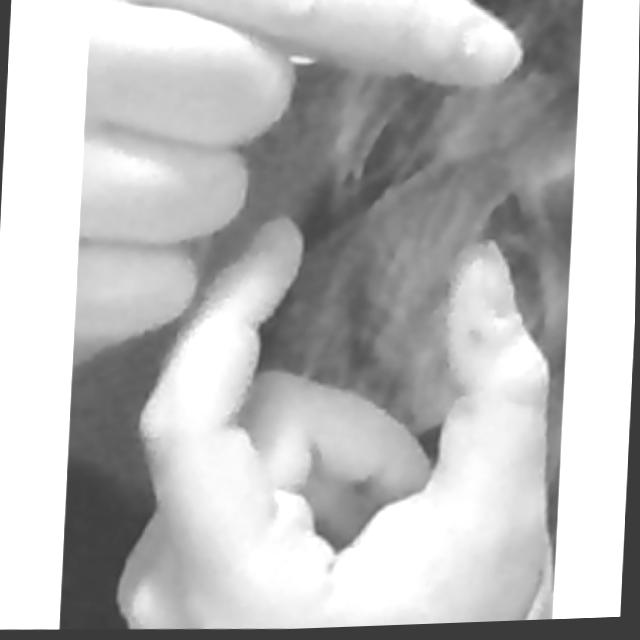U--: (60, 0, 570, 637)
